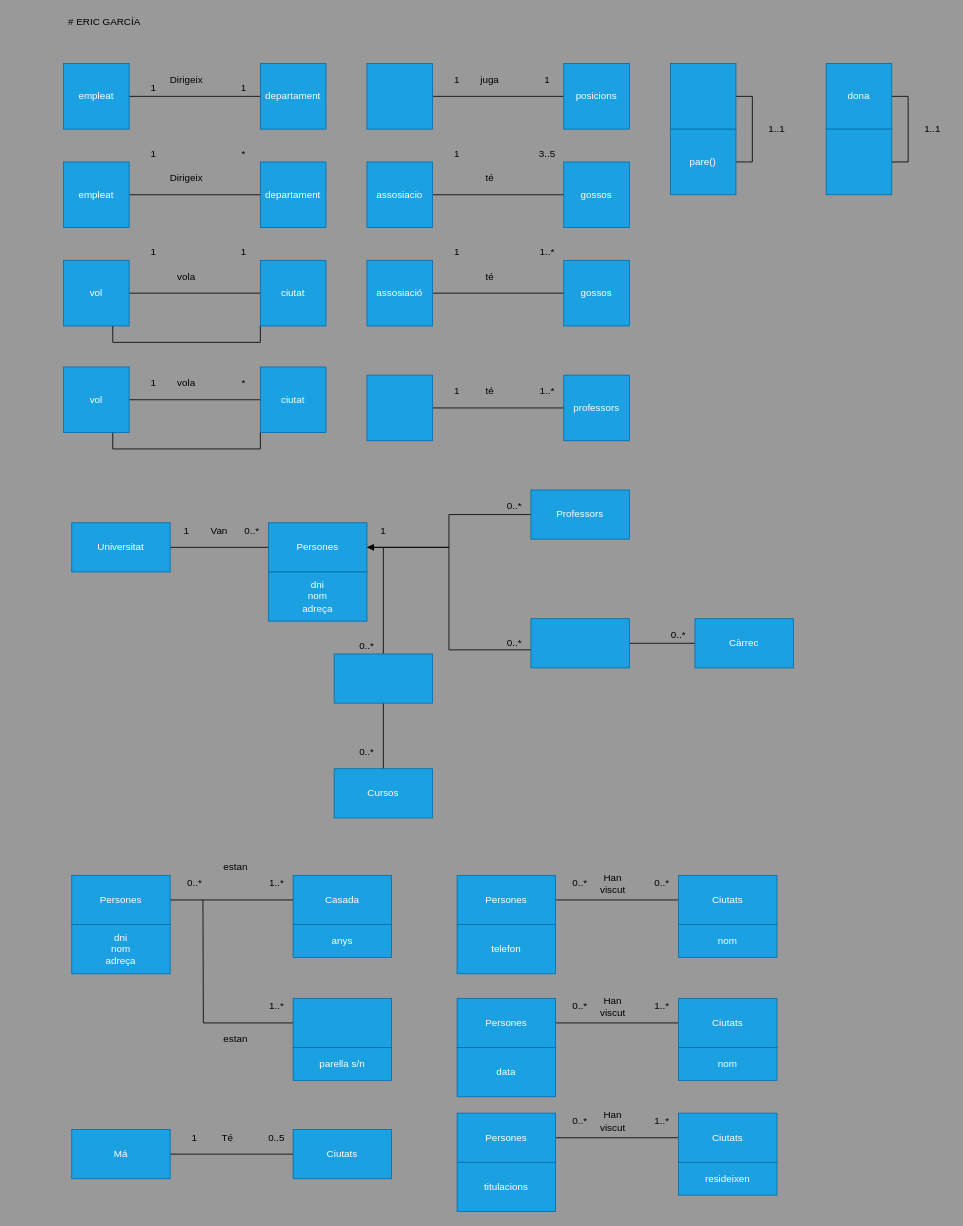
This 963x1226 diagram has some shape labels left out. Each missing label, with the box of its shape:
alumne: (366, 374, 433, 441)
Alumnes: (333, 653, 433, 703)
Empleats: (530, 618, 629, 668)
fills(): (825, 128, 892, 195)
futbolista: (366, 63, 433, 129)
Pare: (670, 63, 736, 129)
Soltera: (292, 998, 392, 1048)
